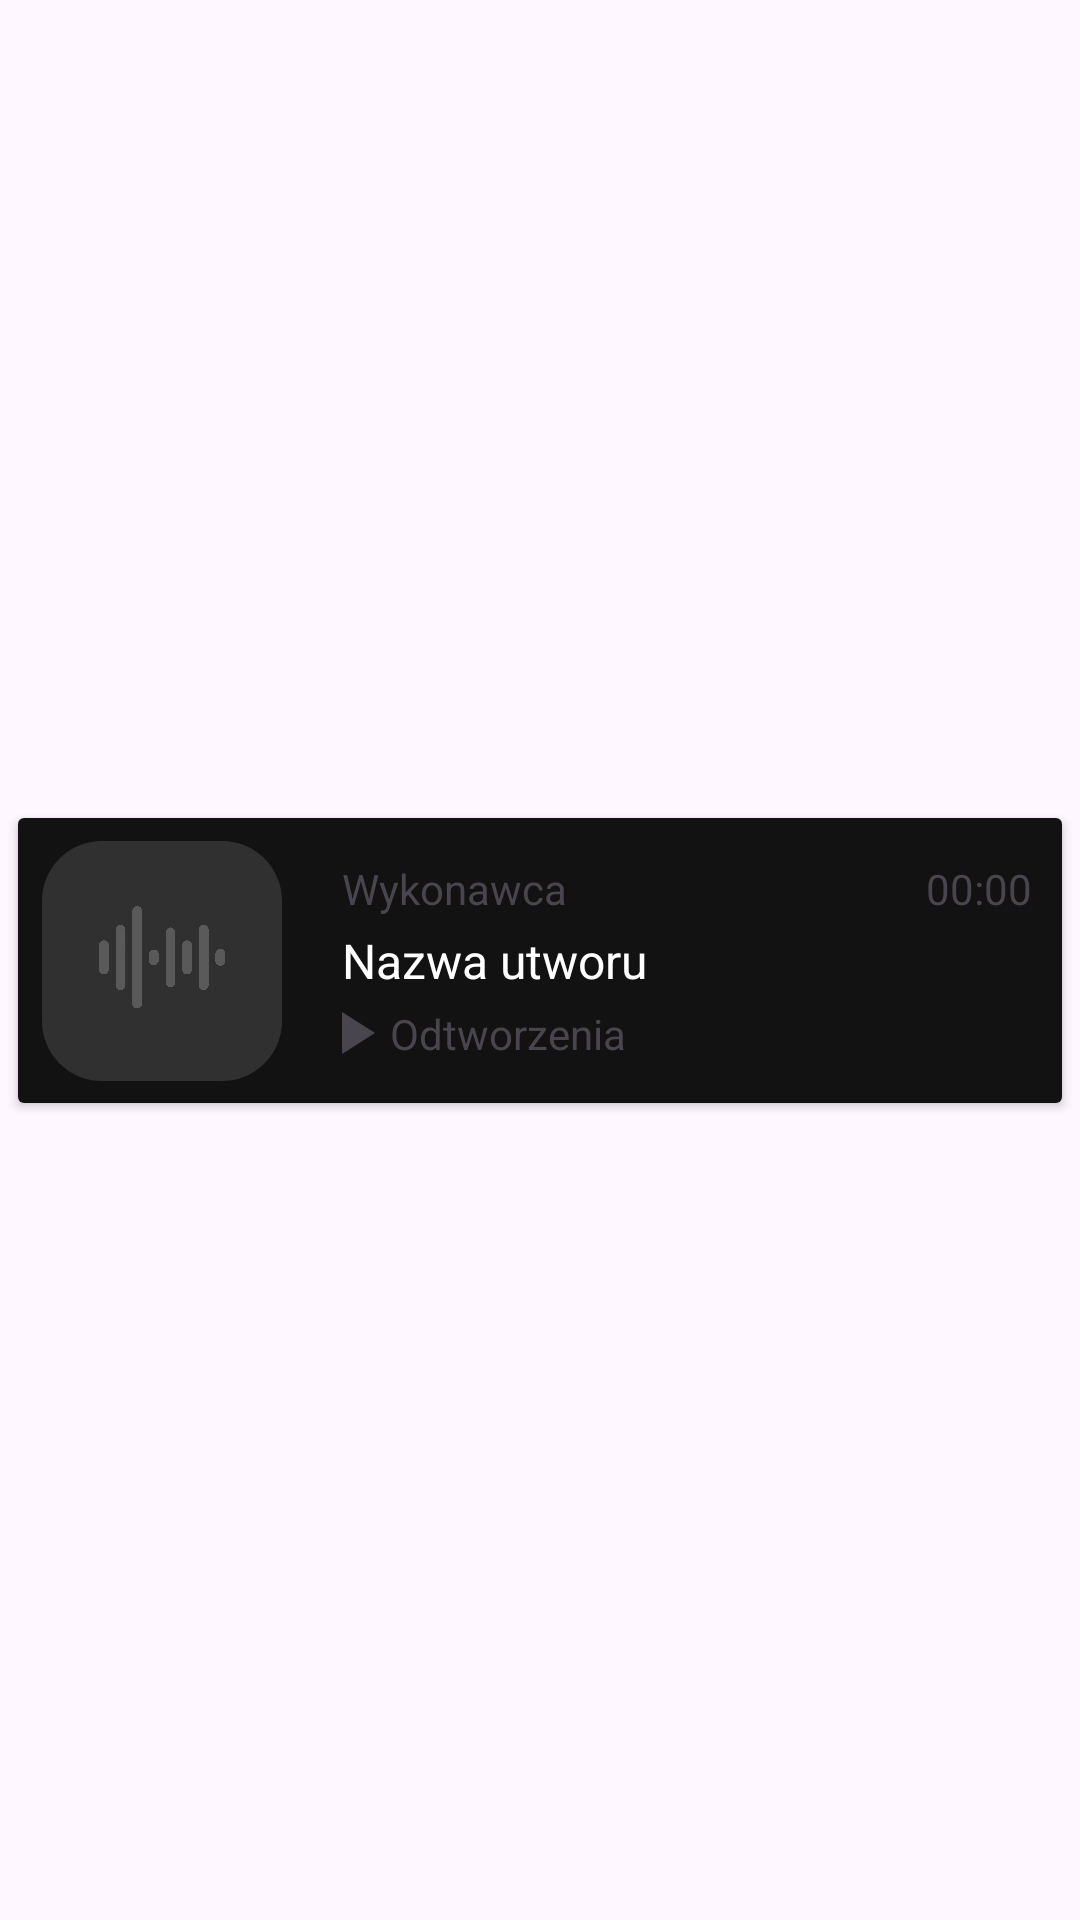

Locate icon controls on the screen. Image size 1080 x 1920, boxes as (x1, y1, x2, y2).
graj szary: (342, 1012, 374, 1054)
